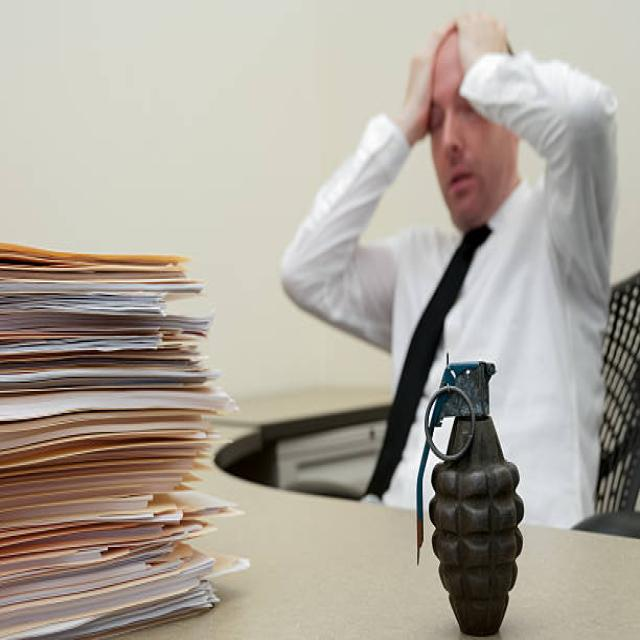grenade: (413, 348, 531, 640)
